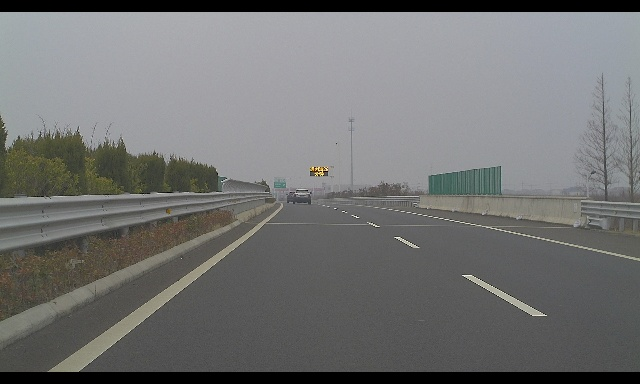car: (292, 189, 312, 204), (286, 191, 299, 203)
